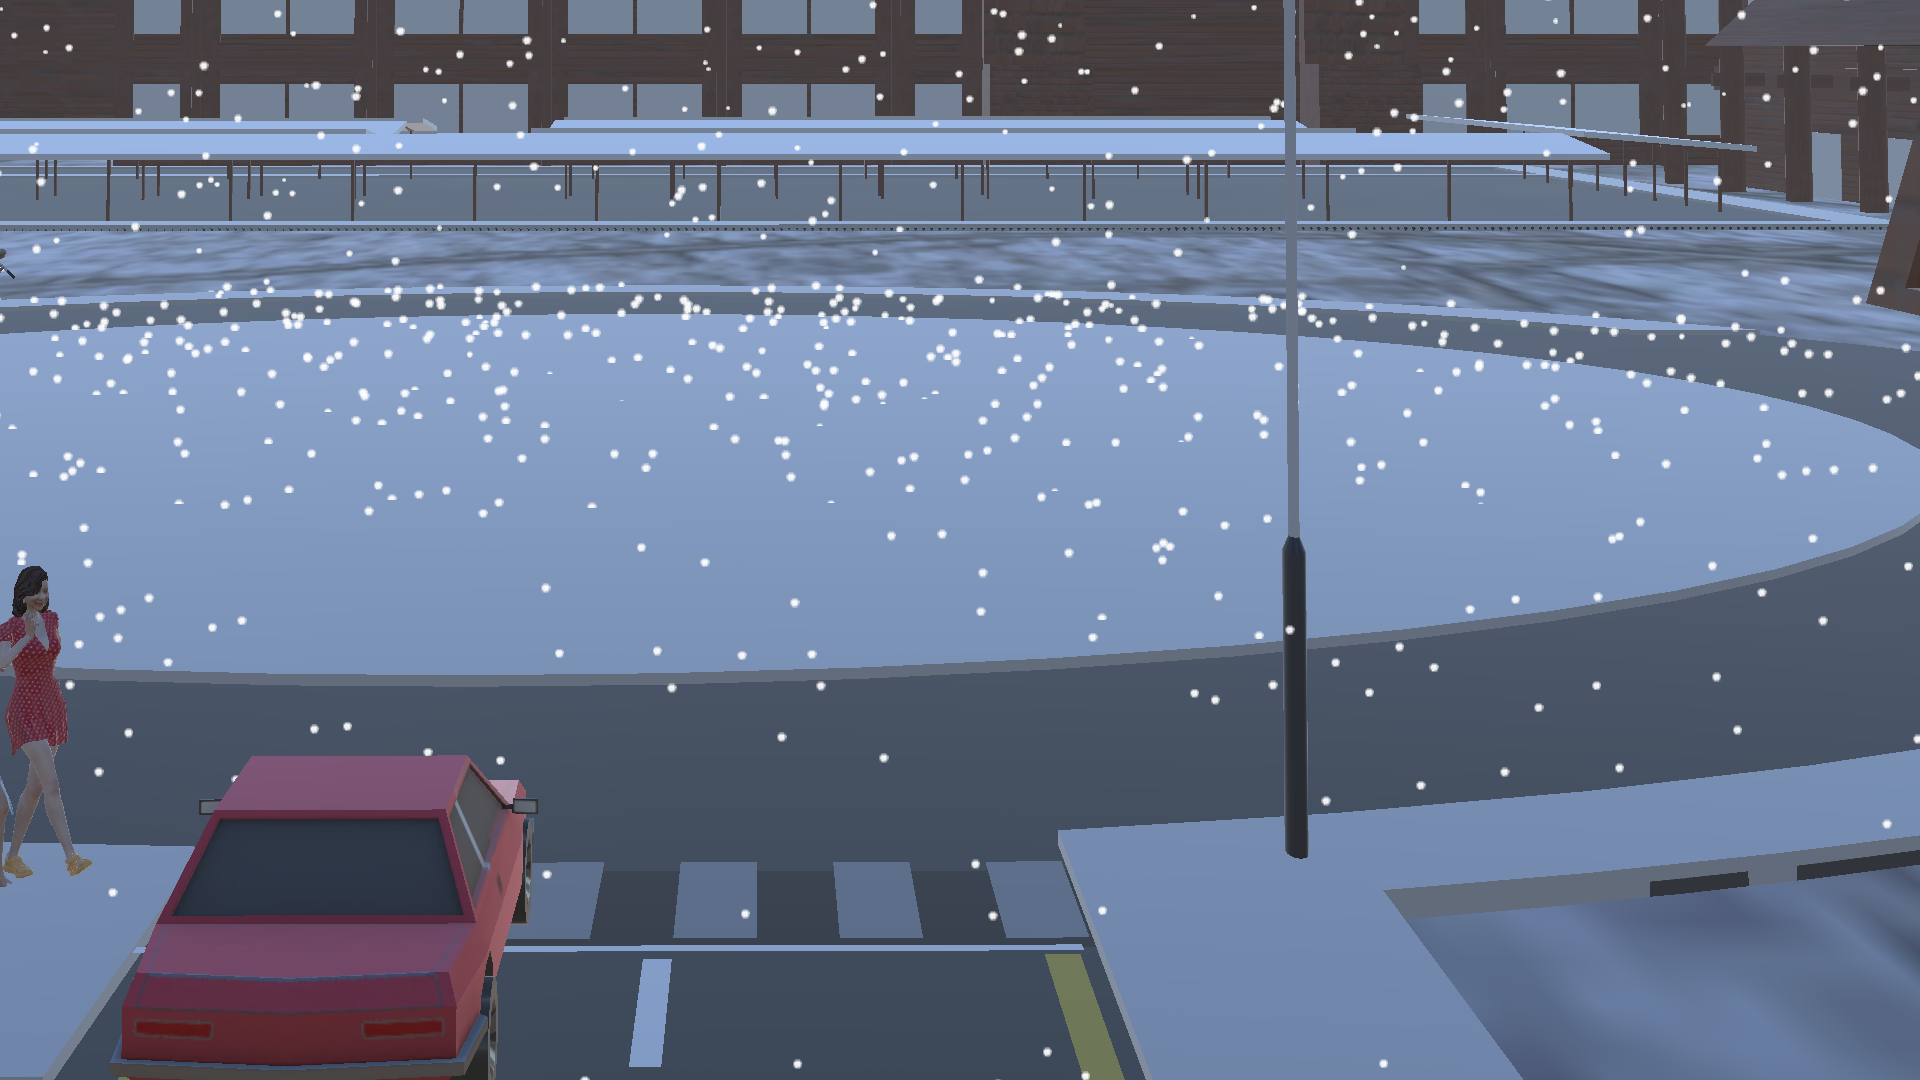pedestrian: (2, 559, 106, 893)
